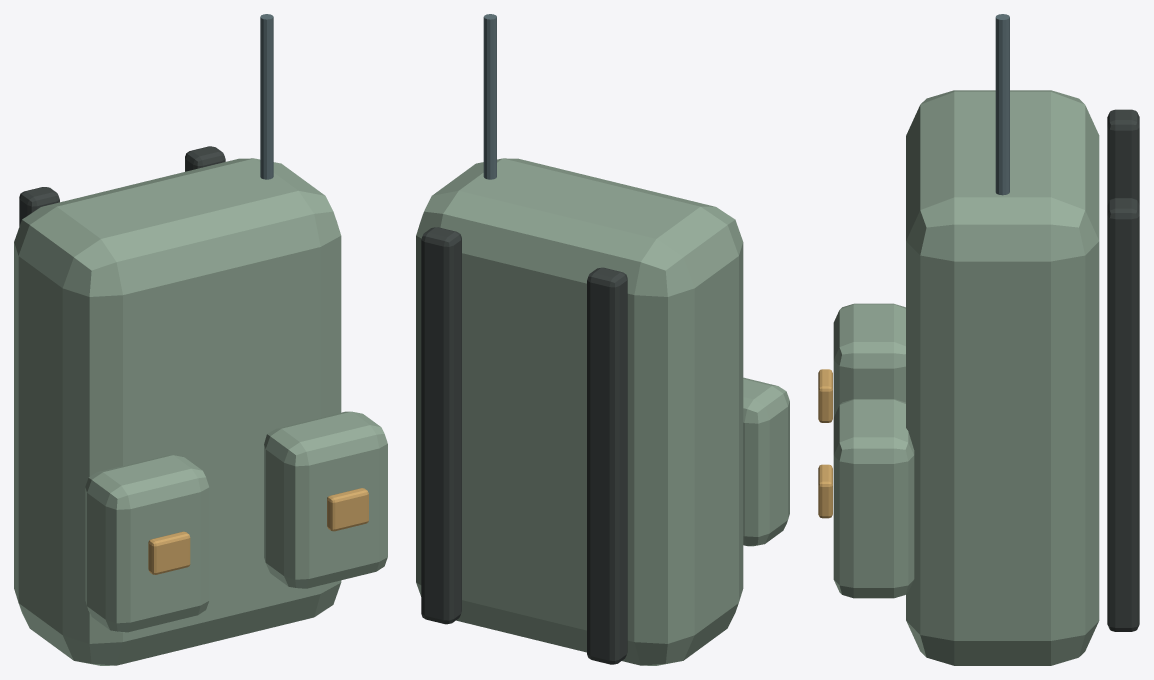
File: backpack.glb
3 renders of one model, left to right at view 1: azimuth 30°, elevation 25°; view 2: azimuth 150°, elevation 25°; view 3: azimuth 270°, elevation 25°, orthographic. The views are drawn at different scales.
Visible parts, largest first — view 1: Canvas backpack, Pouch, Pouch.001, Antenna, Buckle, Buckle.001, Shoulder strap, Shoulder strap.001; view 2: Canvas backpack, Shoulder strap, Shoulder strap.001, Pouch, Antenna; view 3: Canvas backpack, Pouch.001, Shoulder strap.001, Pouch, Shoulder strap, Antenna, Buckle.001, Buckle.
Part boxes in pixels (<box>): Canvas backpack: <box>14,158,341,665</box>; Pouch: <box>85,455,209,632</box>; Pouch.001: <box>264,411,387,588</box>; Antenna: <box>260,14,273,179</box>; Buckle: <box>148,531,190,574</box>; Buckle.001: <box>327,488,368,531</box>; Shoulder strap: <box>19,187,59,226</box>; Shoulder strap.001: <box>185,146,225,171</box>; Canvas backpack: <box>416,158,743,665</box>; Shoulder strap: <box>587,267,627,664</box>; Shoulder strap.001: <box>421,227,461,624</box>; Pouch: <box>743,377,789,546</box>; Antenna: <box>483,14,496,179</box>; Canvas backpack: <box>906,90,1099,665</box>; Pouch.001: <box>833,399,914,598</box>; Shoulder strap.001: <box>1107,198,1139,631</box>; Pouch: <box>833,303,905,417</box>; Shoulder strap: <box>1107,109,1139,204</box>; Antenna: <box>995,14,1009,195</box>; Buckle.001: <box>818,464,832,518</box>; Buckle: <box>818,369,832,422</box>.
Bounding box in the file's own units: 0.44 × 0.88 × 0.399.
